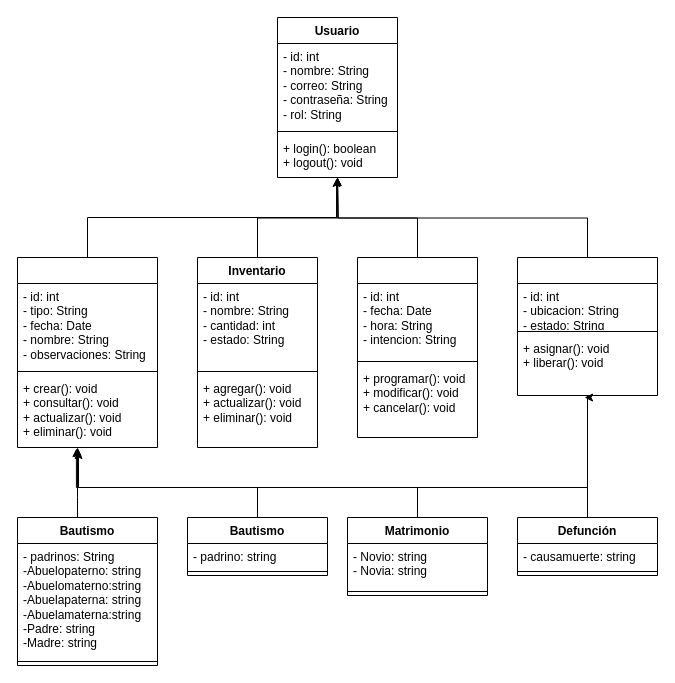
Image size: 675x683. Some labels were removed from this diagram. Here are the shapes that lost their labels. From the top down, the box of each, then its label:
(516, 256, 658, 396): Boveda
(16, 256, 158, 448): Partida
(356, 256, 478, 438): Misa
